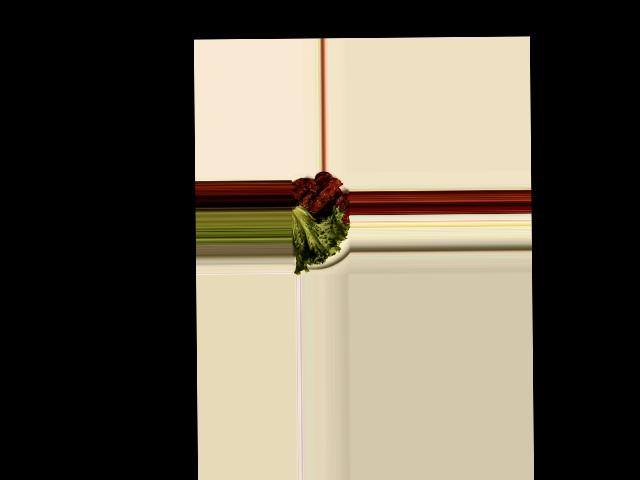lettuce: (291, 205, 348, 271)
